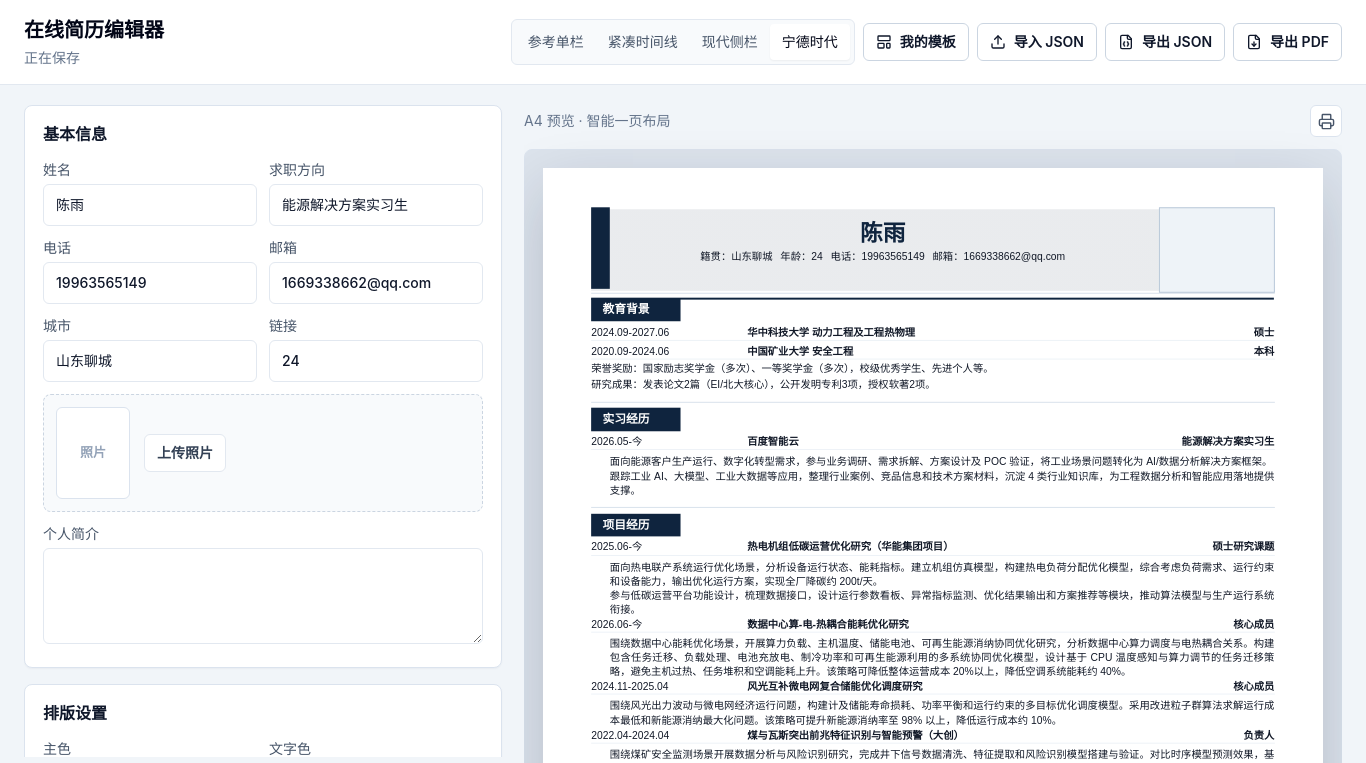
Test: resume builder app › renames a built-in template label from the template panel
Click the button "我的模板" at (916, 42), box [863,23,969,61]
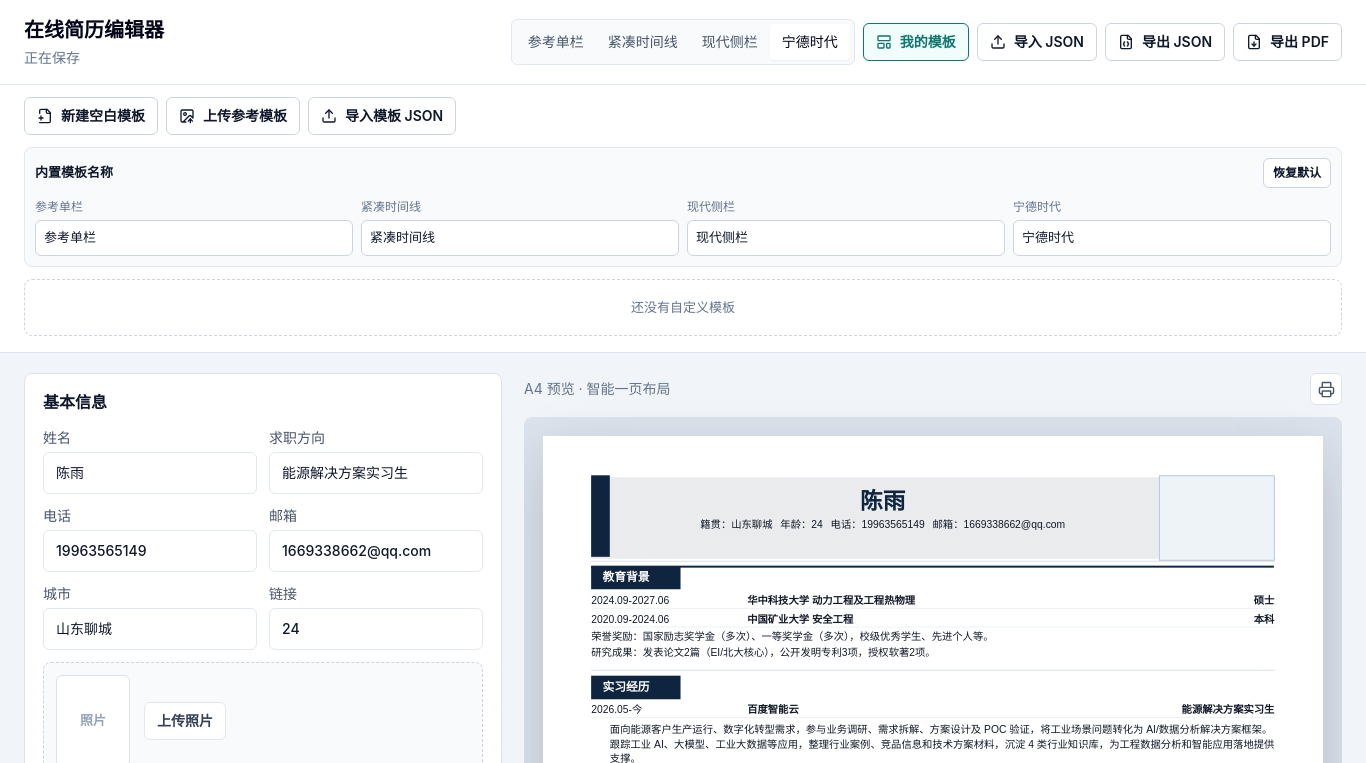
Replace the text in the field showing "宁德时代" with "能源行业模板" at (1172, 238), box [1013,220,1331,256]
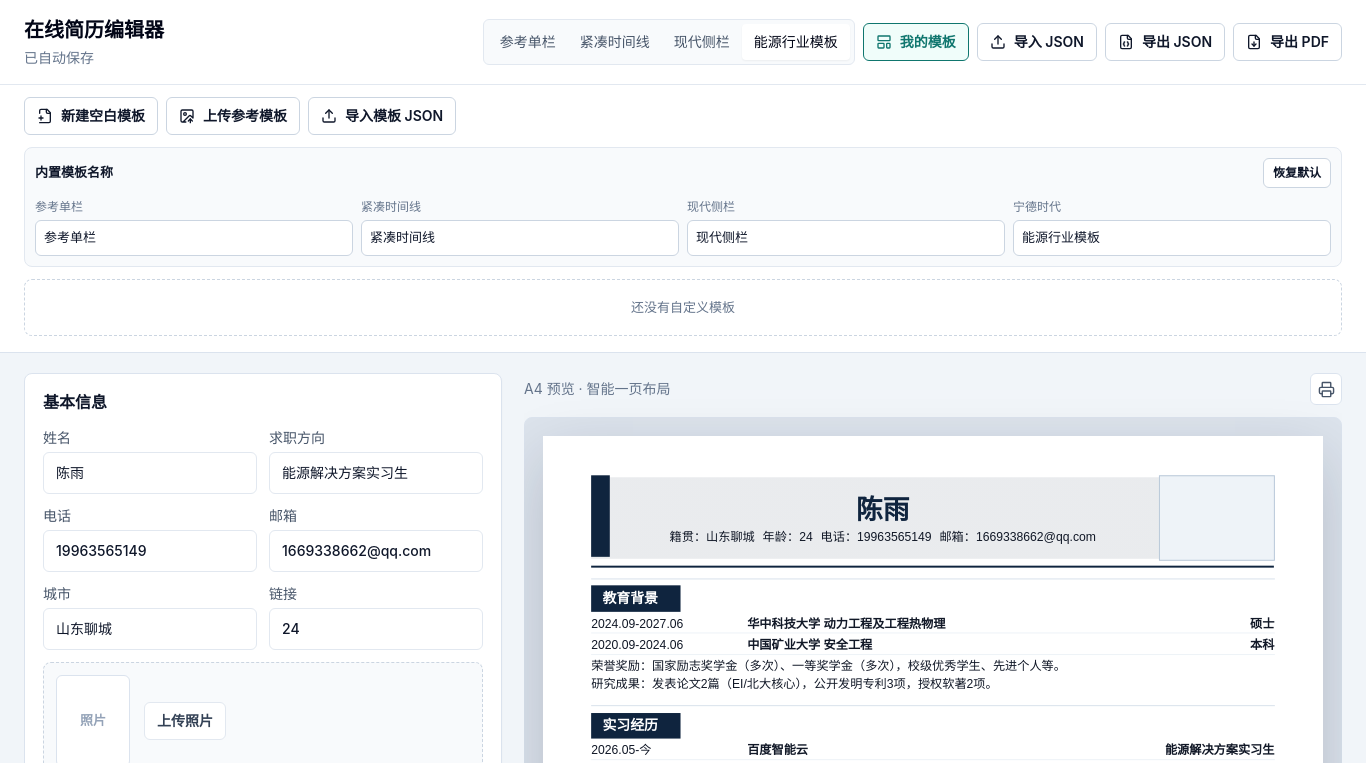
Expected: the button "能源行业模板" is shown, [742,24,850,60]
